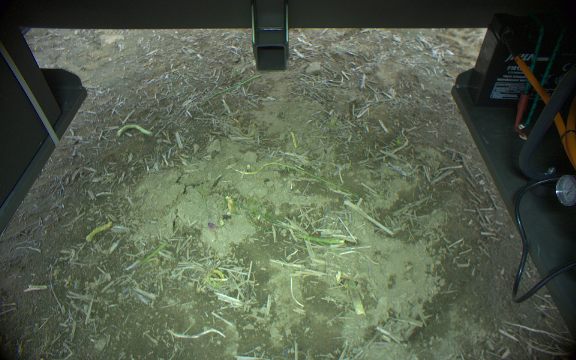aspa: (130, 240, 167, 271), (84, 219, 113, 243), (117, 122, 152, 141), (295, 232, 345, 244)
